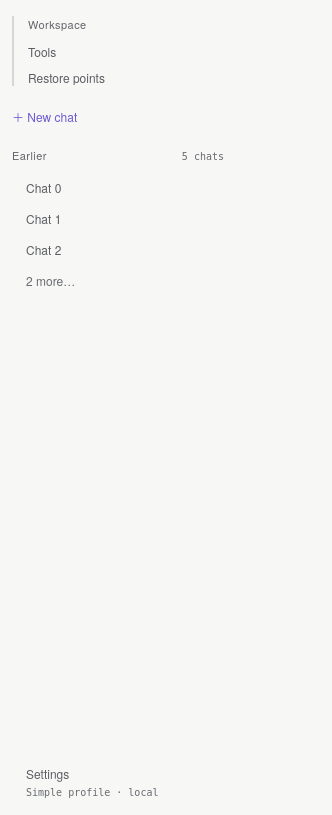
Scenario: sidebar group expand and collapse › expands to every row, and the hint offers the way back
Click the button "2 more…" at (118, 280), box [12,266,224,295]
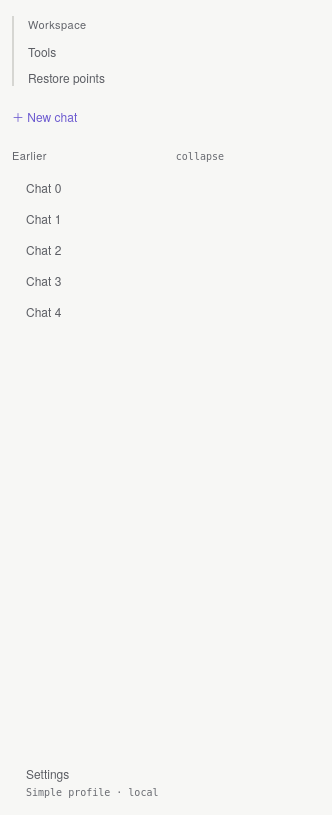
Now the button "Chat 4" is shown, box [12,297,224,326]
Now the button "2 more…" is gone
Now the text "collapse" is shown, box [176,151,224,162]
